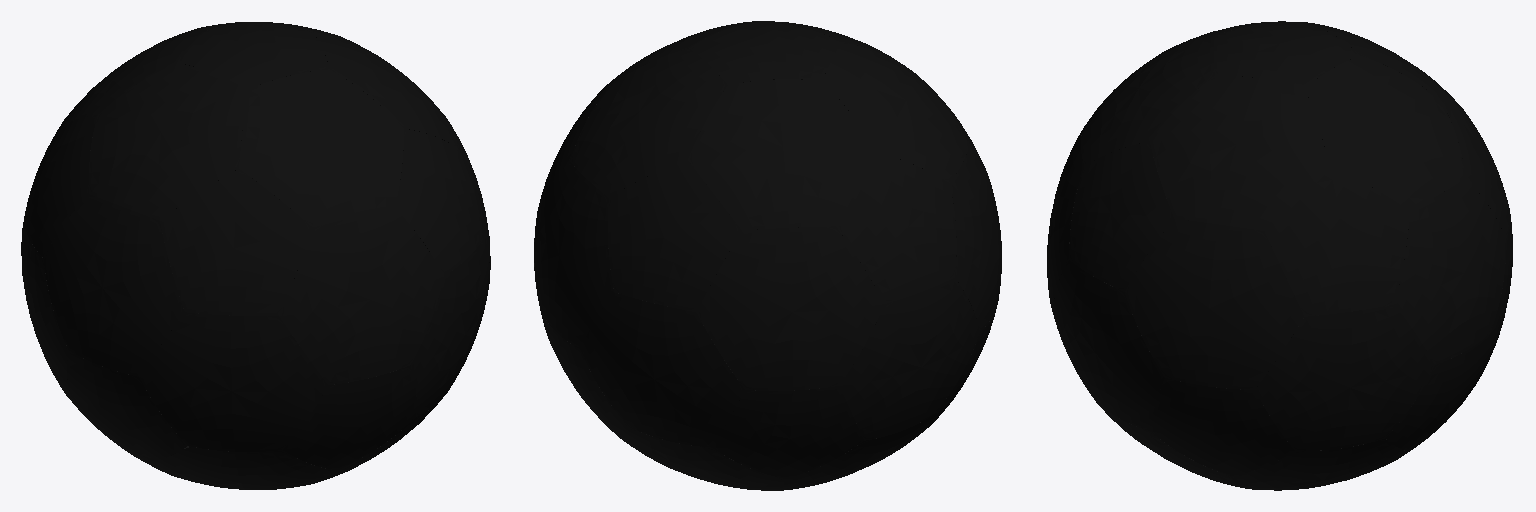
3 views of the same model, side by side, from view 1: azimuth 30°, elevation 25°; view 2: azimuth 150°, elevation 25°; view 3: azimuth 270°, elevation 25° (orthographic).
Visible parts, largest first — view 1: football_dxf_001; view 2: football_dxf_001; view 3: football_dxf_001.
Part boxes in pixels (x1,y1,x2,y2): football_dxf_001: (21, 22, 490, 489); football_dxf_001: (534, 21, 1001, 490); football_dxf_001: (1047, 21, 1512, 490).
Size of the model in its own units: 384 by 383 by 381.